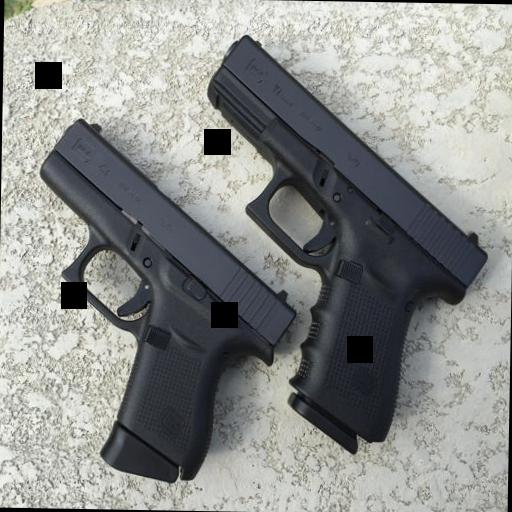Handgun: (196, 26, 492, 457), (29, 114, 296, 482)
